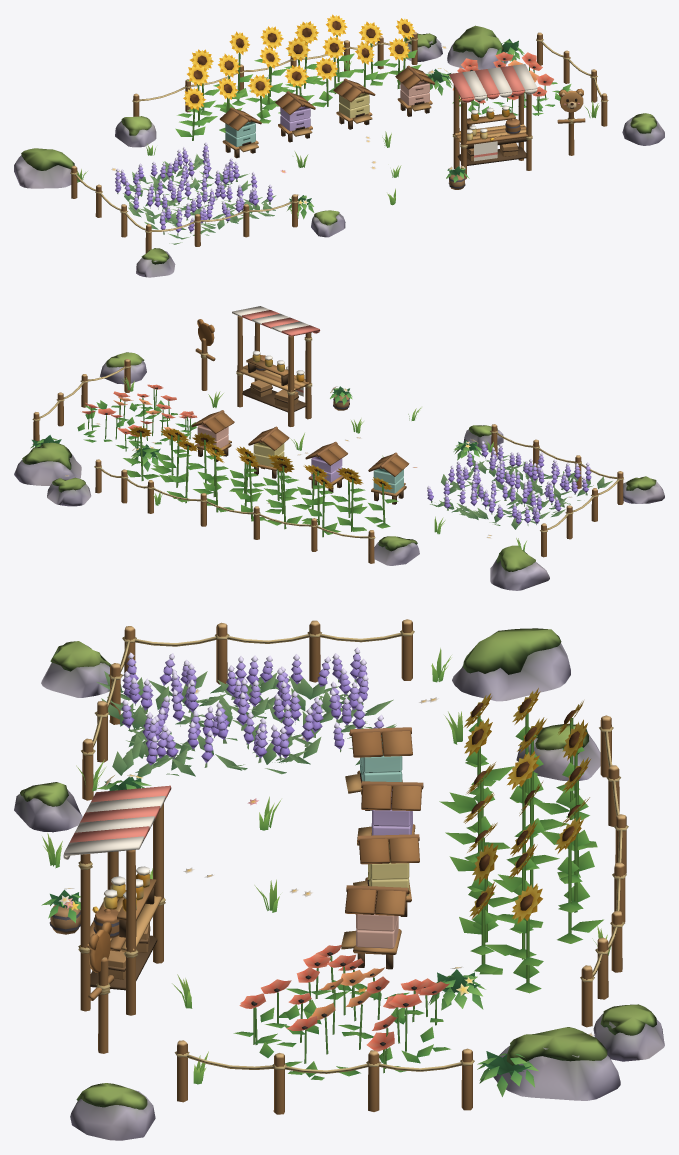
File: poi-bees-0.glb
The picture shows the model from 3 angles, top to bottom: view 1: azimuth 30°, elevation 25°; view 2: azimuth 150°, elevation 25°; view 3: azimuth 270°, elevation 25°; orthographic projection. The views are drawn at different scales.
Parts seen in each view (by area): view 1: body, leaf, cloth; view 2: body, leaf, cloth; view 3: body, leaf, cloth.
Part boxes in pixels (x1,y1,x2,y2): body: (14,25,664,277); leaf: (77,14,599,244); cloth: (449,64,537,161); body: (14,316,664,590); leaf: (30,376,612,551); cloth: (232,306,320,396); body: (14,619,664,1140); leaf: (41,647,610,1096); cloth: (63,785,171,909).
Size of the model in its own units: 15.42 by 2.69 by 8.67.
